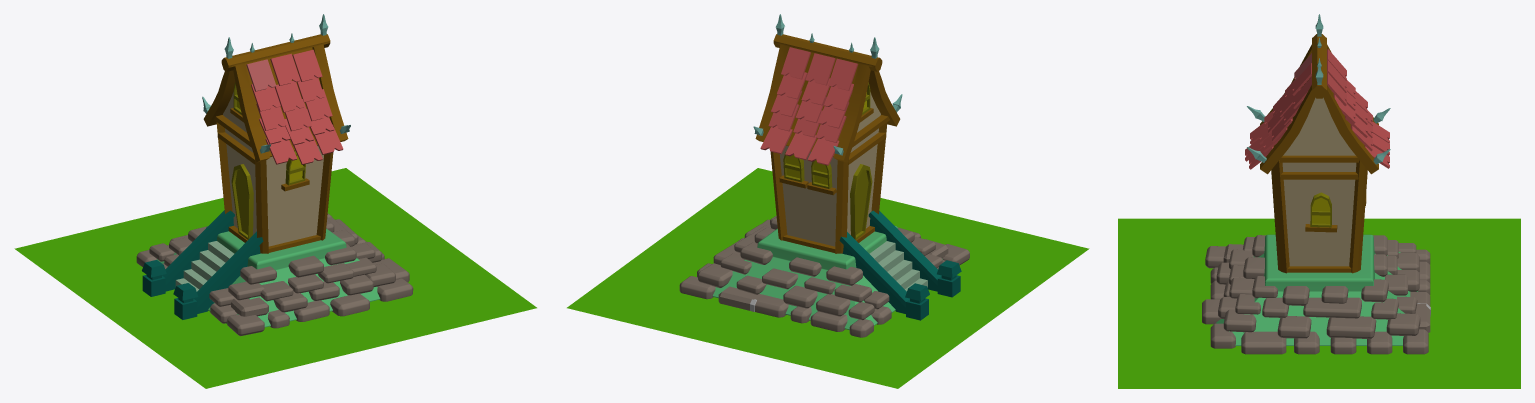
Rendered from house.fbx.
The picture shows the model from 3 angles, left to right: view 1: azimuth 30°, elevation 25°; view 2: azimuth 150°, elevation 25°; view 3: azimuth 270°, elevation 25°; orthographic projection. The views are drawn at different scales.
Parts seen in each view (by area): view 1: pPlane1, pCube1, pCube46, pCube57, pCube56, pCube45, pCube59, pCube58, pCube133, pCube18, pCube19, pCube20 (+22 smaller); view 2: pPlane1, pCube1, pCube46, pCube56, pCube57, pCube45, pCube59, pCube58, pCube34, pCube35, pCube33, pCube99 (+21 smaller); view 3: pPlane1, pCube1, pCube46, pCube120, pCube121, pCube114, pCube117, pCube102, pCube81, pCube113, pCube88, pCube89 (+19 smaller).
Boxes of the visible parts, box(x1,y1,x2,y2) form: pPlane1: box(14, 168, 536, 388); pCube1: box(203, 34, 348, 253); pCube46: box(157, 226, 380, 327); pCube57: box(193, 231, 263, 313); pCube56: box(162, 210, 234, 291); pCube45: box(231, 164, 253, 239); pCube59: box(173, 283, 198, 319); pCube58: box(142, 260, 166, 296); pCube133: box(330, 293, 369, 316); pCube18: box(246, 59, 276, 91); pCube19: box(270, 53, 300, 85); pCube20: box(292, 49, 322, 81); pPlane1: box(567, 168, 1089, 388); pCube1: box(755, 34, 900, 253); pCube46: box(712, 226, 942, 329); pCube56: box(839, 232, 909, 313); pCube57: box(868, 210, 941, 291); pCube45: box(850, 164, 872, 239); pCube59: box(937, 260, 961, 297); pCube58: box(905, 283, 929, 320); pCube34: box(805, 53, 835, 85); pCube35: box(781, 47, 810, 79); pCube33: box(828, 58, 857, 90); pCube99: box(718, 286, 763, 310); pPlane1: box(1118, 218, 1520, 388); pCube1: box(1260, 34, 1378, 273); pCube46: box(1216, 234, 1417, 345); pCube120: box(1303, 297, 1361, 318); pCube121: box(1326, 316, 1376, 338); pCube114: box(1241, 331, 1286, 354); pCube117: box(1277, 316, 1311, 338); pCube102: box(1386, 313, 1420, 335); pCube81: box(1310, 192, 1331, 227); pCube113: box(1223, 309, 1256, 332); pCube88: box(1280, 155, 1358, 162); pCube89: box(1280, 172, 1358, 179).
Size of the model in its own units: 10.48 by 7.76 by 10.48.
